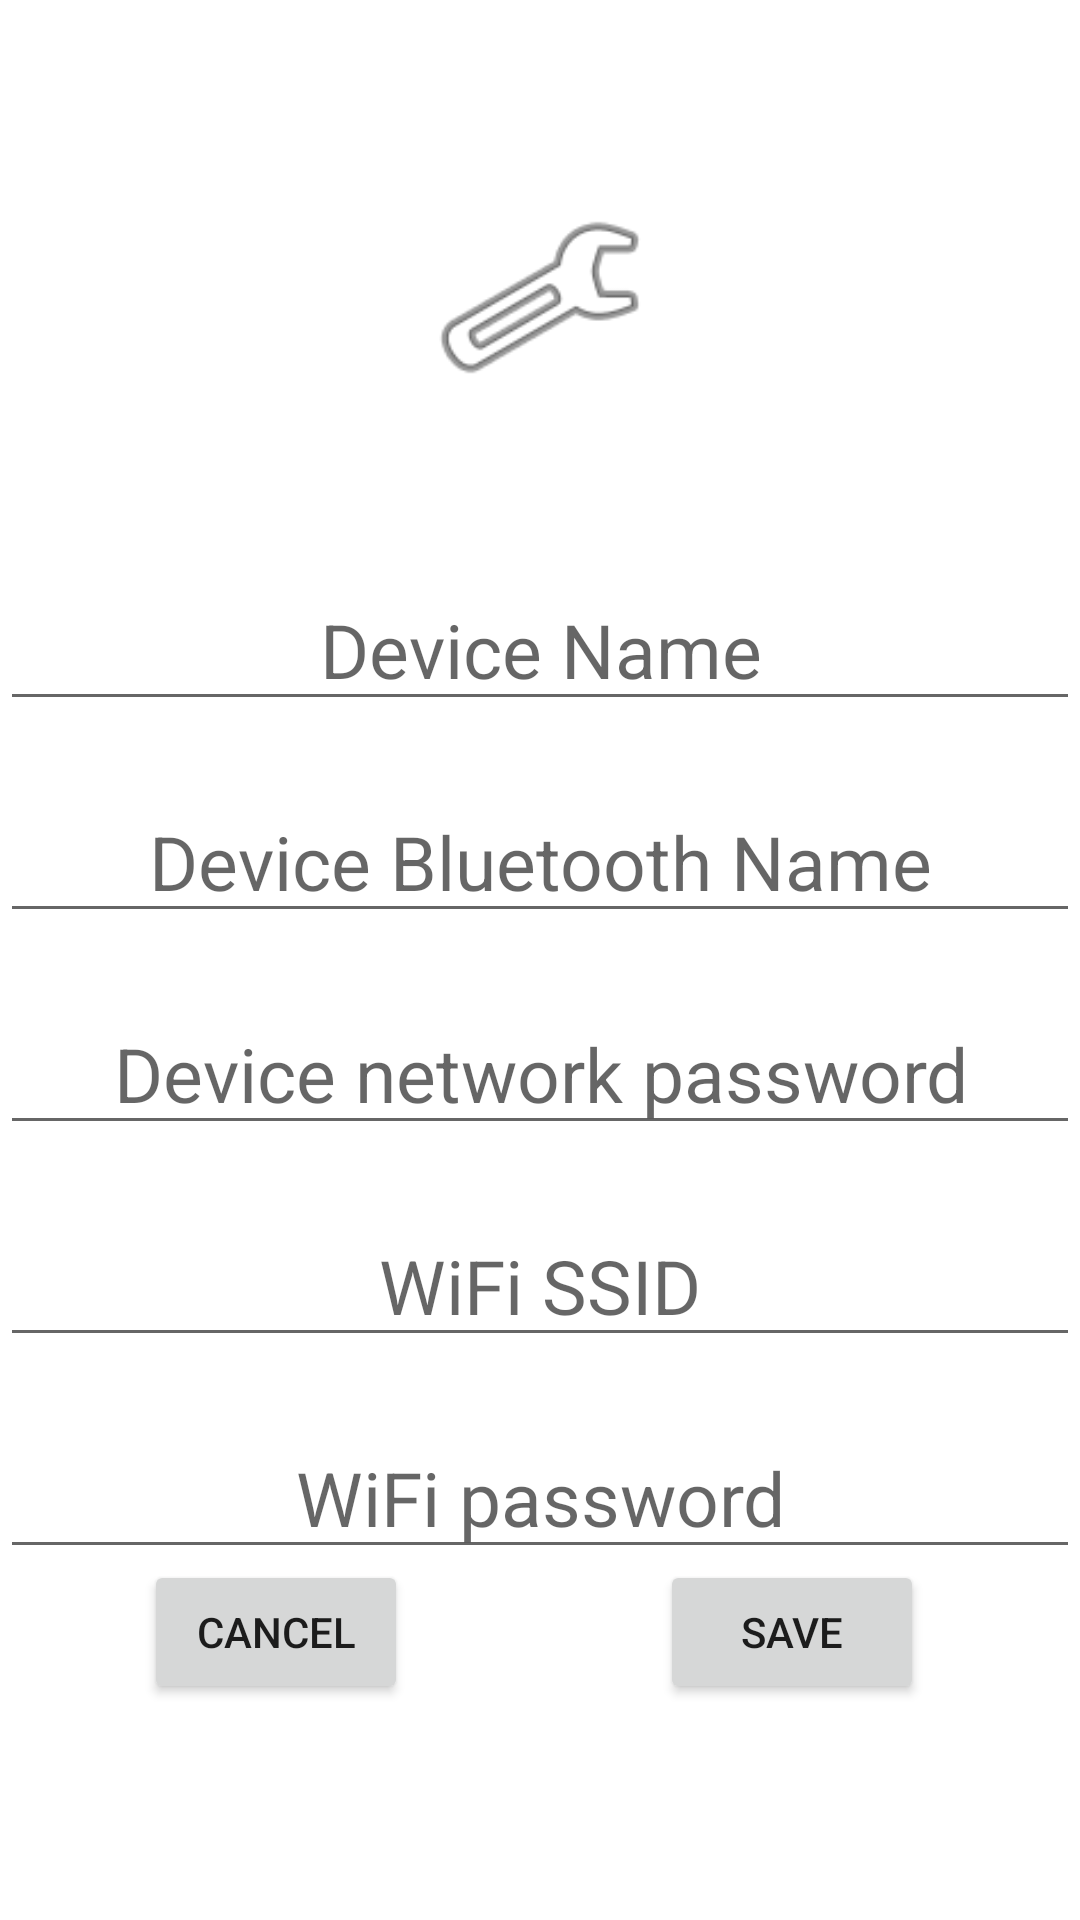

Icon click points for this 1080*1920 phone screenshot, format (x=x, y=y):
manage: (x=540, y=297)
